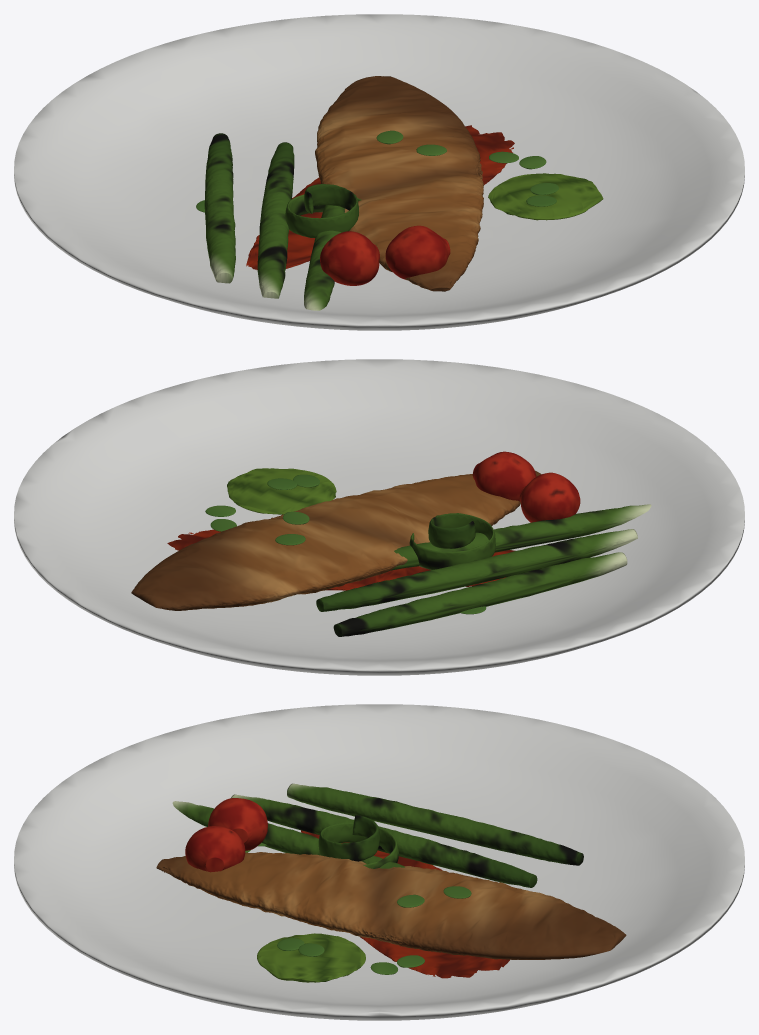
File: plated_fish.glb
The picture shows the model from 3 angles, top to bottom: view 1: azimuth 30°, elevation 25°; view 2: azimuth 150°, elevation 25°; view 3: azimuth 270°, elevation 25°; orthographic projection.
Visible parts, largest first — view 1: plate, fish_fillet, leek_2, leek_1, sauce_green, leek_curl, tomato_1, tomato_2, sauce_red, leek_3; view 2: plate, fish_fillet, leek_2, leek_1, leek_3, sauce_green, leek_curl, tomato_1, tomato_2, sauce_red; view 3: plate, fish_fillet, leek_1, leek_2, sauce_green, leek_curl, sauce_red, tomato_2, leek_3, tomato_1.
Boxes of the visible parts, x1,y1,x2,y2 form: plate: (14,14,744,330); fish_fillet: (315,76,483,291); leek_2: (257,142,294,298); leek_1: (204,133,235,283); sauce_green: (488,173,603,220); leek_curl: (285,184,361,237); tomato_1: (320,231,379,285); tomato_2: (385,225,450,279); sauce_red: (246,125,514,269); leek_3: (304,205,345,310); plate: (14,359,744,675); fish_fillet: (131,470,541,610); leek_2: (316,529,637,611); leek_1: (333,552,627,636); leek_3: (390,504,651,570); sauce_green: (227,468,336,514); leek_curl: (409,513,495,569); tomato_1: (519,472,580,522); tomato_2: (472,451,536,501); sauce_red: (167,529,515,590); plate: (14,704,744,1020); fish_fillet: (156,852,626,959); leek_1: (287,783,583,865); leek_2: (231,794,537,887); sauce_green: (257,933,365,982); leek_curl: (318,815,398,868); sauce_red: (301,830,509,978); tomato_2: (185,826,245,872); leek_3: (172,801,404,868); tomato_1: (208,798,267,850).
Bounding box in the file's own units: 0.2799 × 0.0283 × 0.28.
